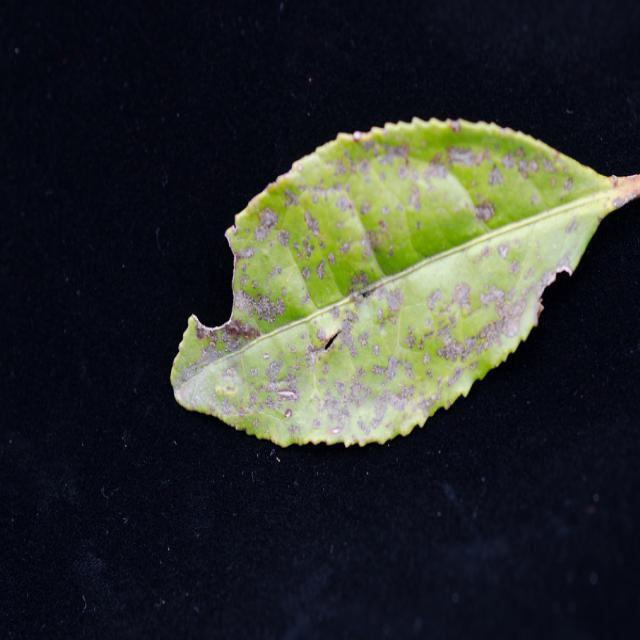Tea red rust: (217, 126, 568, 440)
